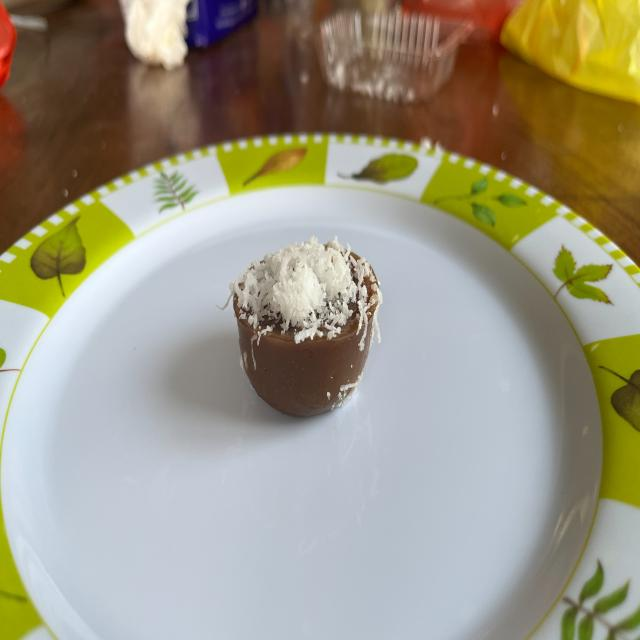Kuih lompang: (230, 236, 382, 416)
